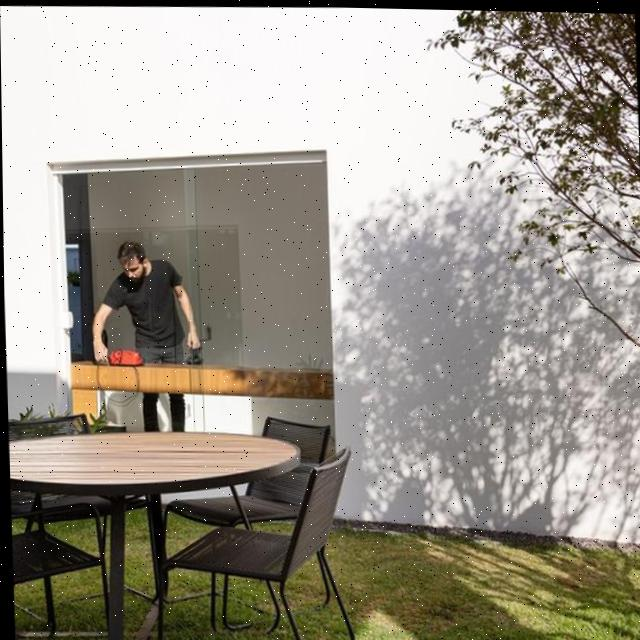building: (0, 0, 640, 555)
